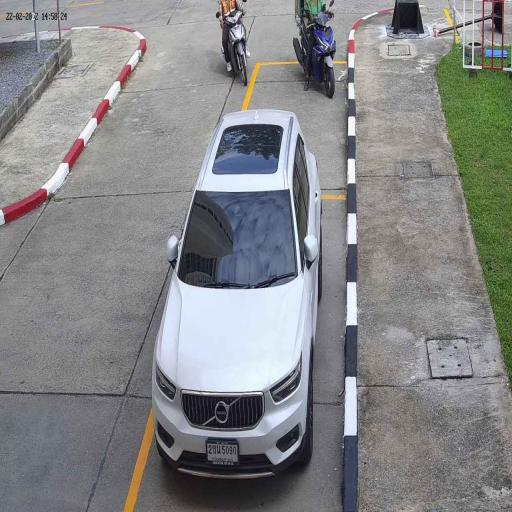car: (152, 109, 322, 483)
motorcycle: (290, 10, 338, 100), (223, 14, 250, 86)
